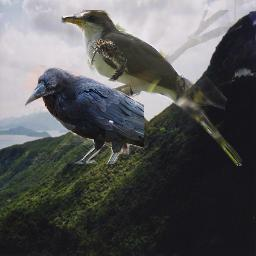Crow: (24, 65, 144, 164)
Cuckoo: (61, 10, 242, 166)
